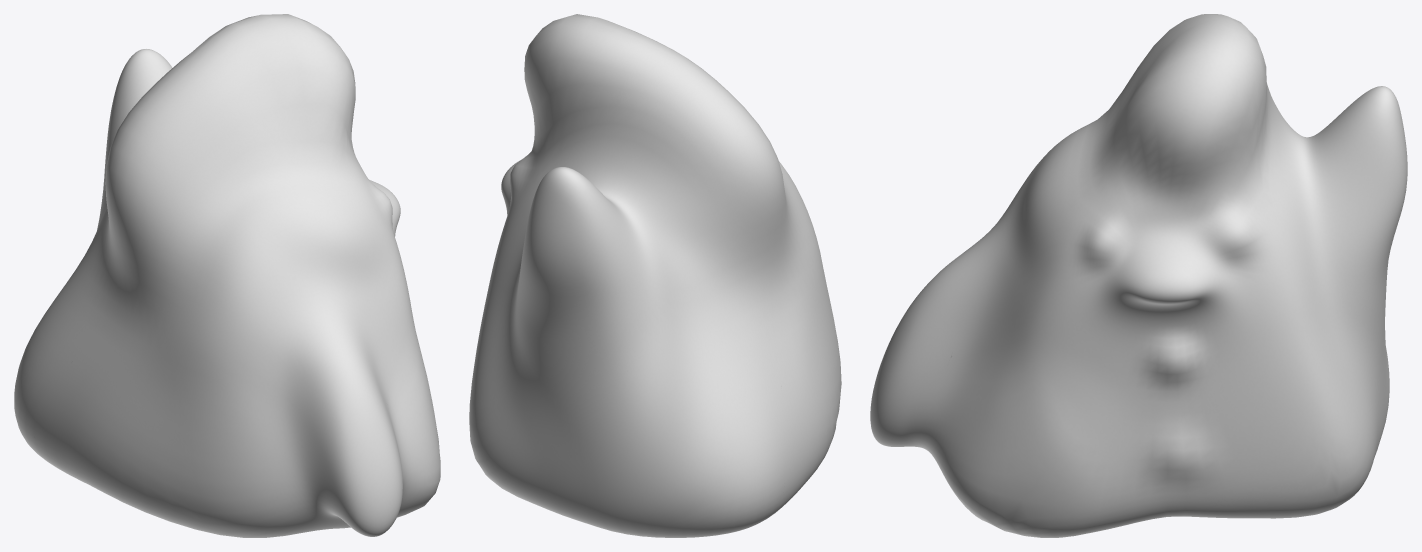
Rendered from snowman.fbx.
The picture shows the model from 3 angles, left to right: view 1: azimuth 30°, elevation 25°; view 2: azimuth 150°, elevation 25°; view 3: azimuth 270°, elevation 25°; orthographic projection. The views are drawn at different scales.
Visible parts, largest first — view 1: Cube; view 2: Cube; view 3: Cube.
Boxes of the visible parts, <box> form: Cube: <box>14,14,440,537</box>; Cube: <box>469,14,841,537</box>; Cube: <box>870,14,1407,537</box>.
Bounding box in the file's own units: 327 × 431 × 442.
1 material, 1 textured.
